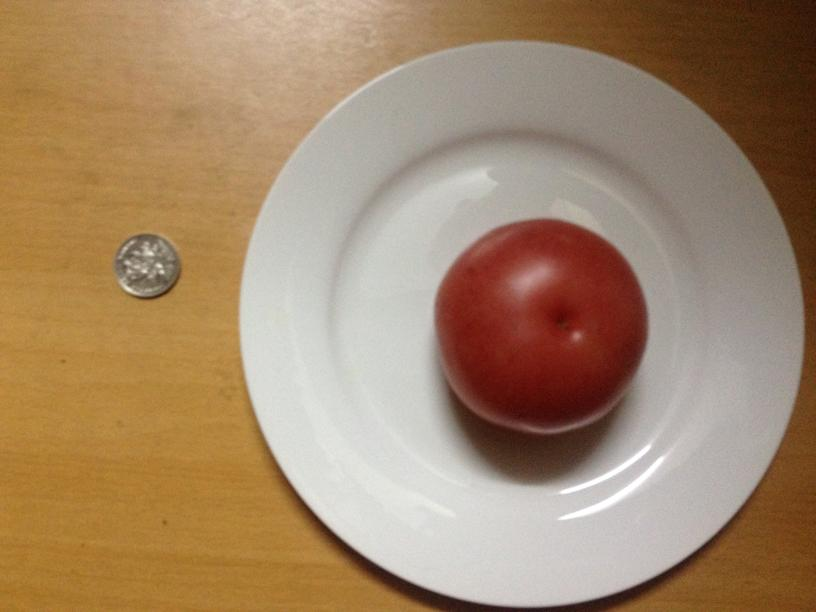coin: (116, 231, 183, 301)
tomato: (425, 219, 648, 435)
